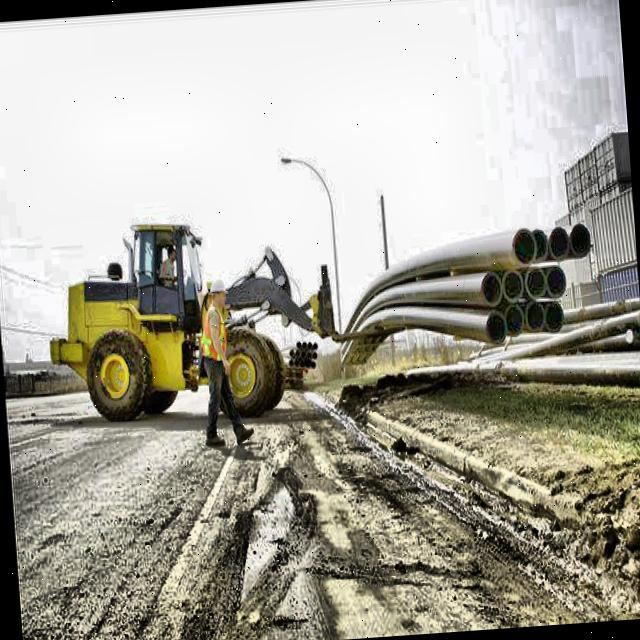helmet: (206, 278, 231, 313)
